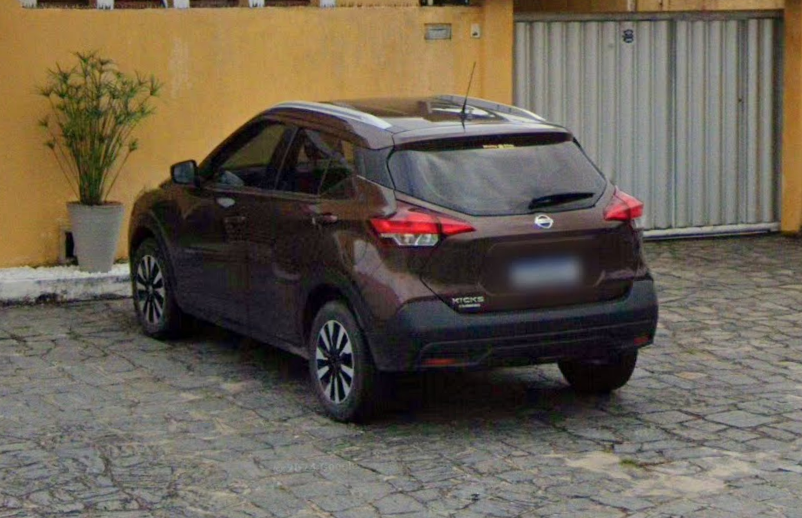car: (125, 61, 661, 427)
